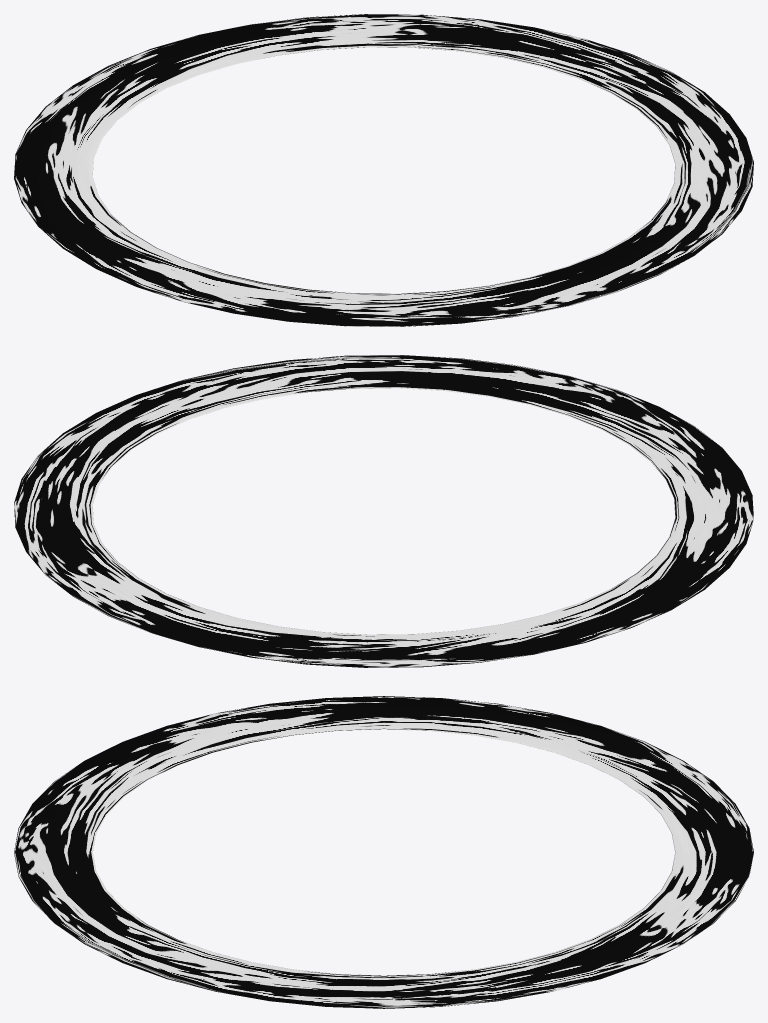
File: Ring.fbx
3 renders of one model, top to bottom at view 1: azimuth 30°, elevation 25°; view 2: azimuth 150°, elevation 25°; view 3: azimuth 270°, elevation 25°, orthographic.
Parts seen in each view (by area): view 1: pasted__pTorus1; view 2: pasted__pTorus1; view 3: pasted__pTorus1.
Boxes of the visible parts, x1,y1,x2,y2 form: pasted__pTorus1: (14, 14, 753, 326); pasted__pTorus1: (14, 355, 753, 667); pasted__pTorus1: (14, 696, 753, 1008).
Size of the model in its own units: 35.3 by 0.0392 by 35.3.
1 material, 1 textured.
